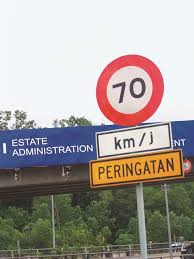Speed_limit_70km: (96, 54, 164, 125)
